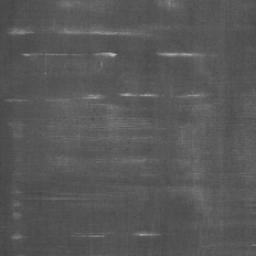Waist folding: (0, 91, 256, 208), (0, 2, 256, 41), (0, 189, 102, 241), (71, 230, 175, 240), (21, 50, 118, 59), (156, 50, 218, 59), (60, 0, 96, 12), (232, 241, 256, 251), (34, 70, 69, 76)
